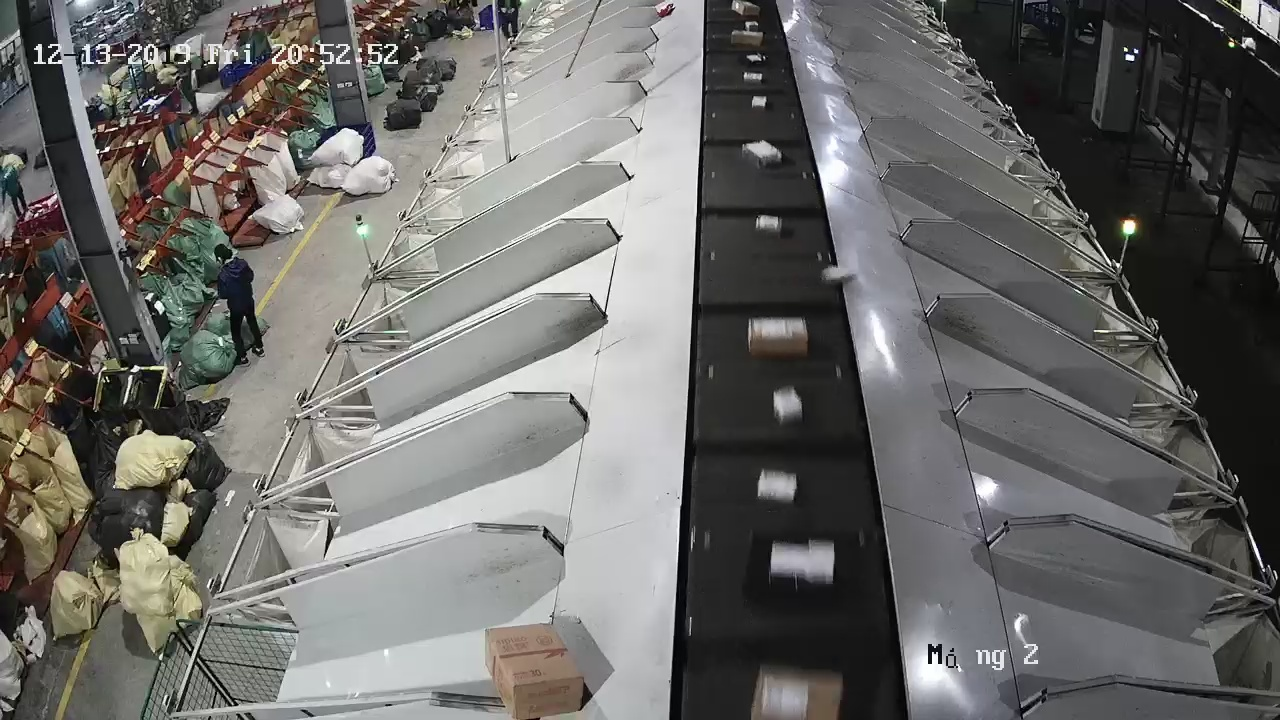parcel: (819, 262, 856, 288)
